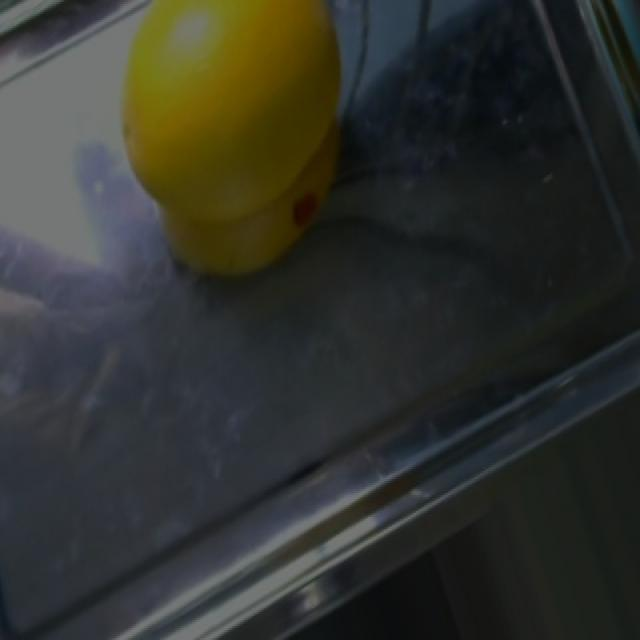Fruit: (92, 0, 365, 304)
